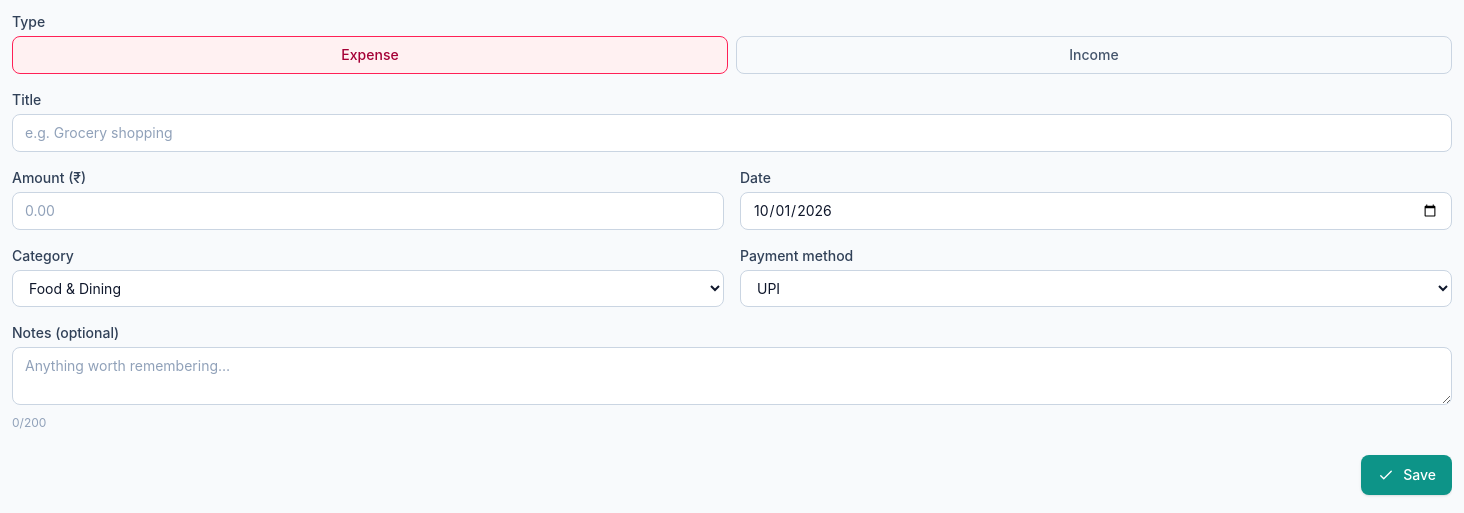
it: <TransactionForm /> › keeps focus in the title input while typing (no remount bug)
Click the field labelled "Title" at (732, 133), box [12,114,1452,152]
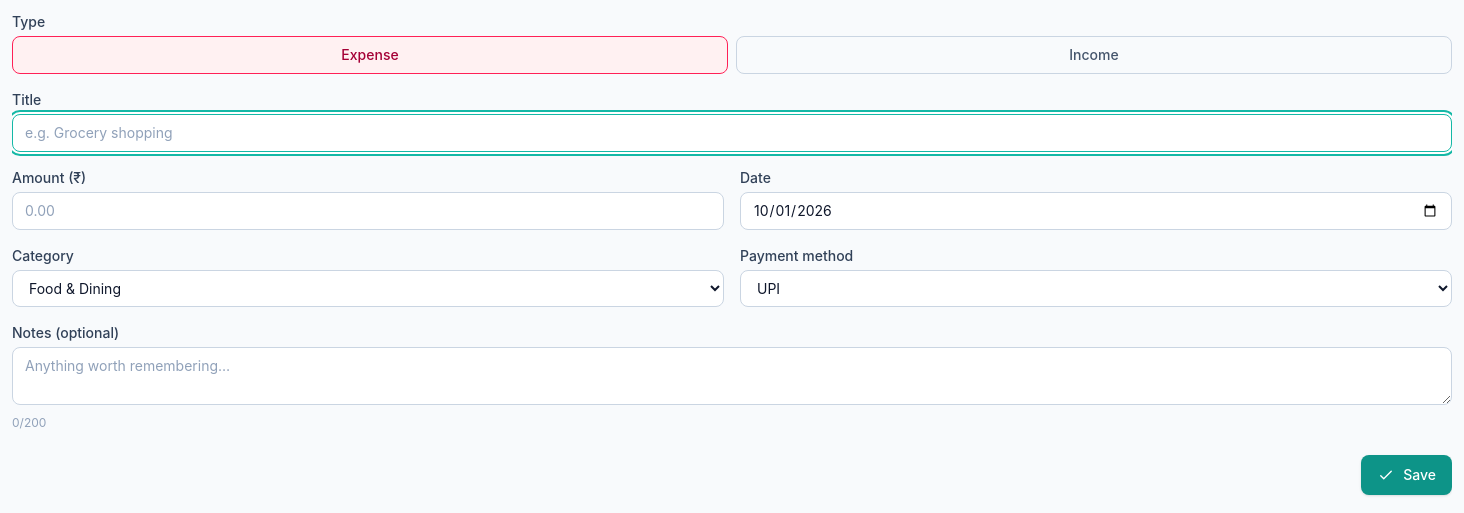
Type keys "Hello world"
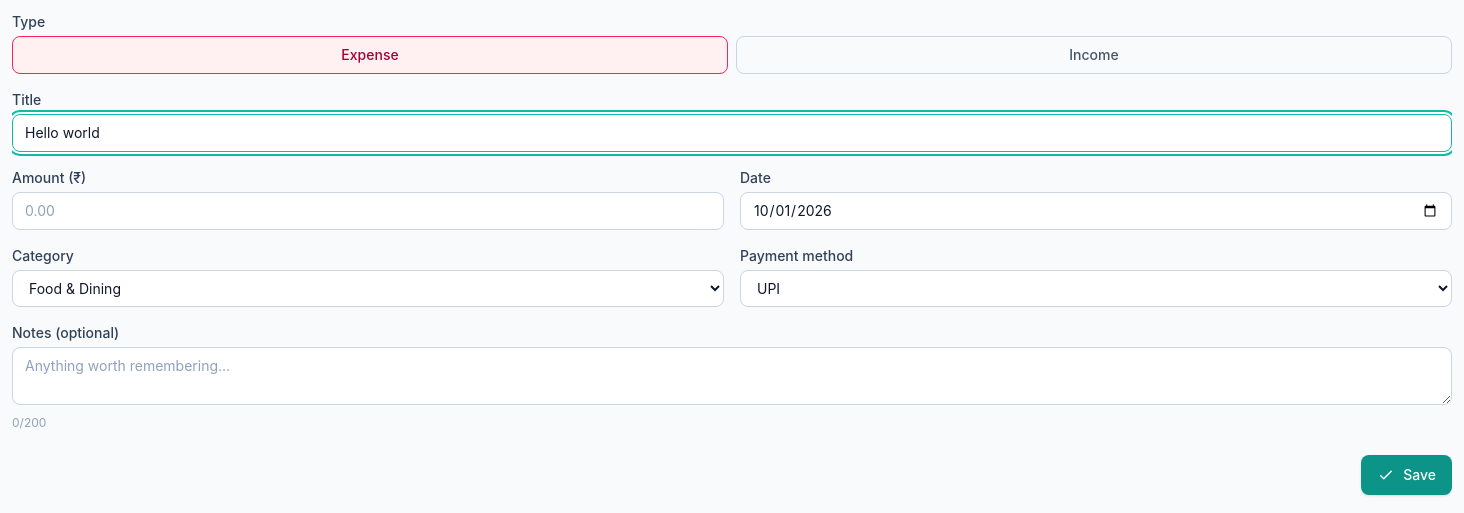
Now the field labelled "Title" holds "Hello world", box [12,114,1452,152]
